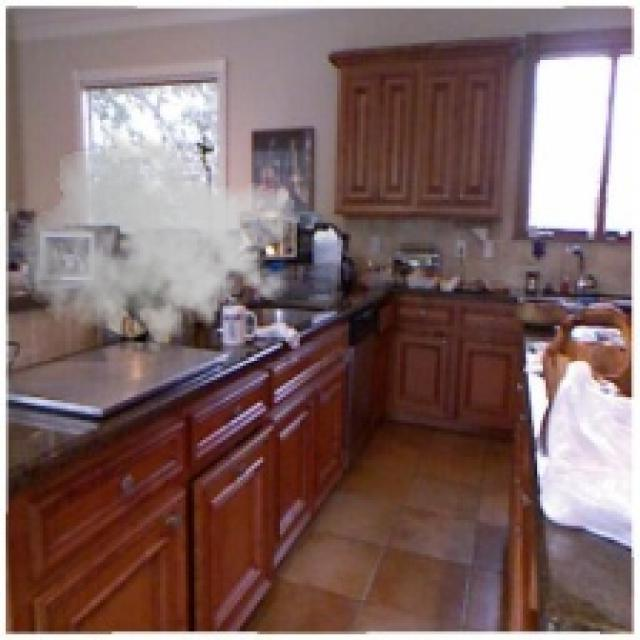Smoke: (17, 123, 300, 366)
